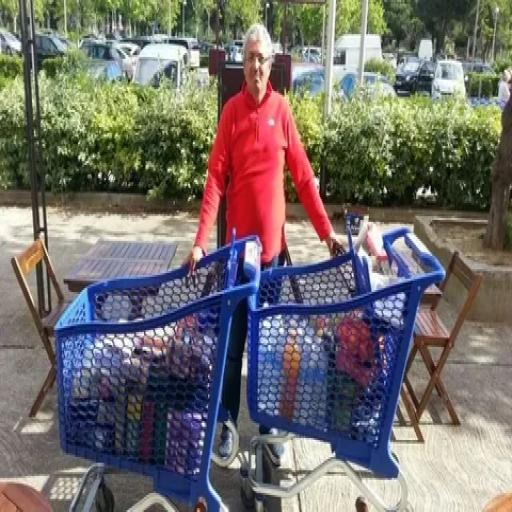shopping_cart: (52, 231, 262, 512), (247, 226, 447, 512)
